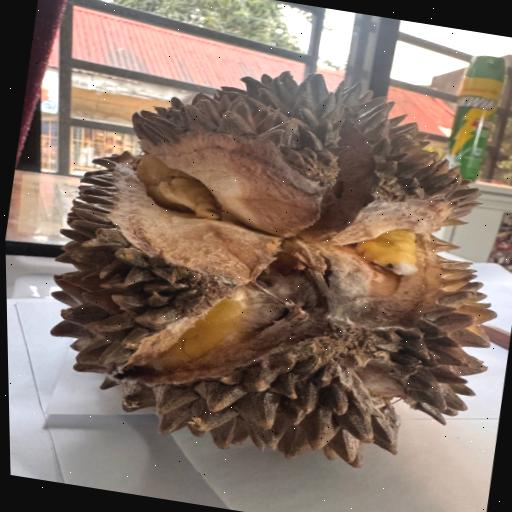mold: (211, 148, 473, 407)
rot: (0, 14, 512, 512)
